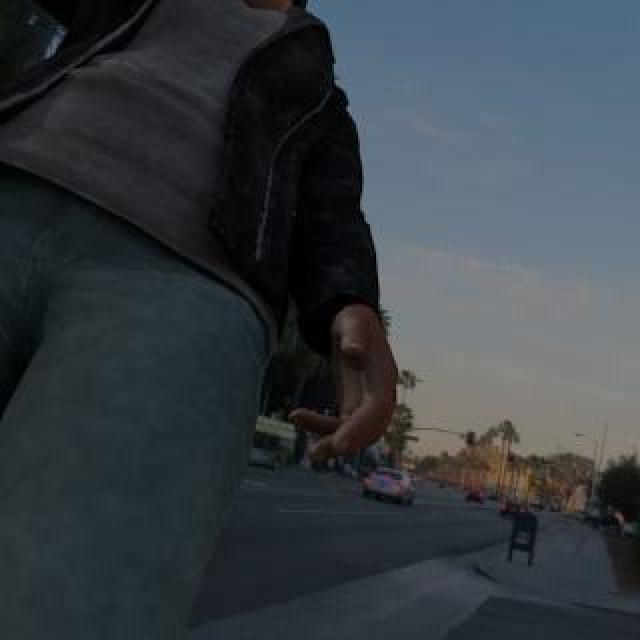not-gloved: (276, 304, 412, 469)
